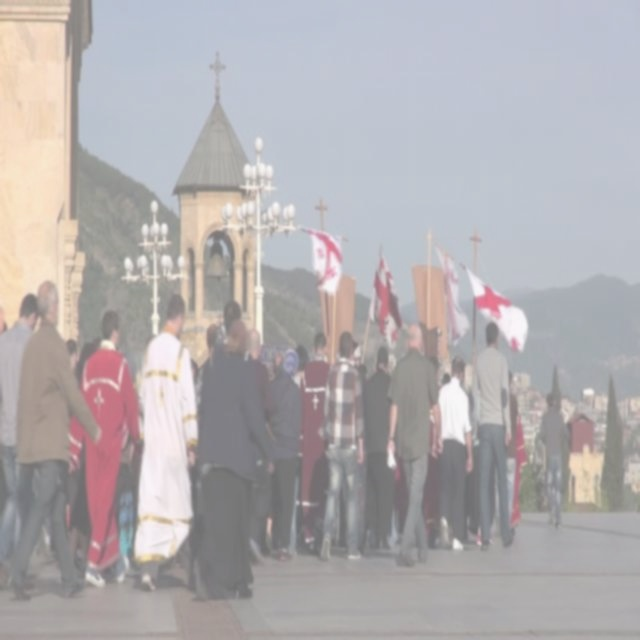pessoa: (1, 276, 103, 604), (196, 317, 276, 604), (64, 305, 143, 588), (132, 292, 200, 594), (384, 320, 446, 570), (0, 288, 42, 597), (316, 328, 367, 564), (469, 317, 516, 554), (295, 328, 335, 560), (429, 353, 474, 555), (266, 346, 304, 566), (359, 342, 396, 554), (414, 353, 444, 551), (118, 353, 144, 580), (537, 389, 571, 531), (494, 368, 521, 539), (462, 362, 483, 550), (352, 336, 368, 551), (210, 298, 253, 370), (242, 328, 274, 419), (72, 318, 103, 386), (511, 409, 528, 531), (74, 472, 92, 574), (388, 464, 406, 550), (202, 321, 219, 383), (290, 342, 310, 389), (262, 493, 276, 560), (184, 350, 202, 394), (268, 337, 284, 379), (31, 518, 45, 562), (64, 337, 80, 375), (142, 328, 160, 353), (216, 326, 228, 354), (0, 304, 9, 340), (387, 352, 399, 375), (440, 365, 452, 388), (302, 338, 312, 361), (488, 526, 496, 548)
